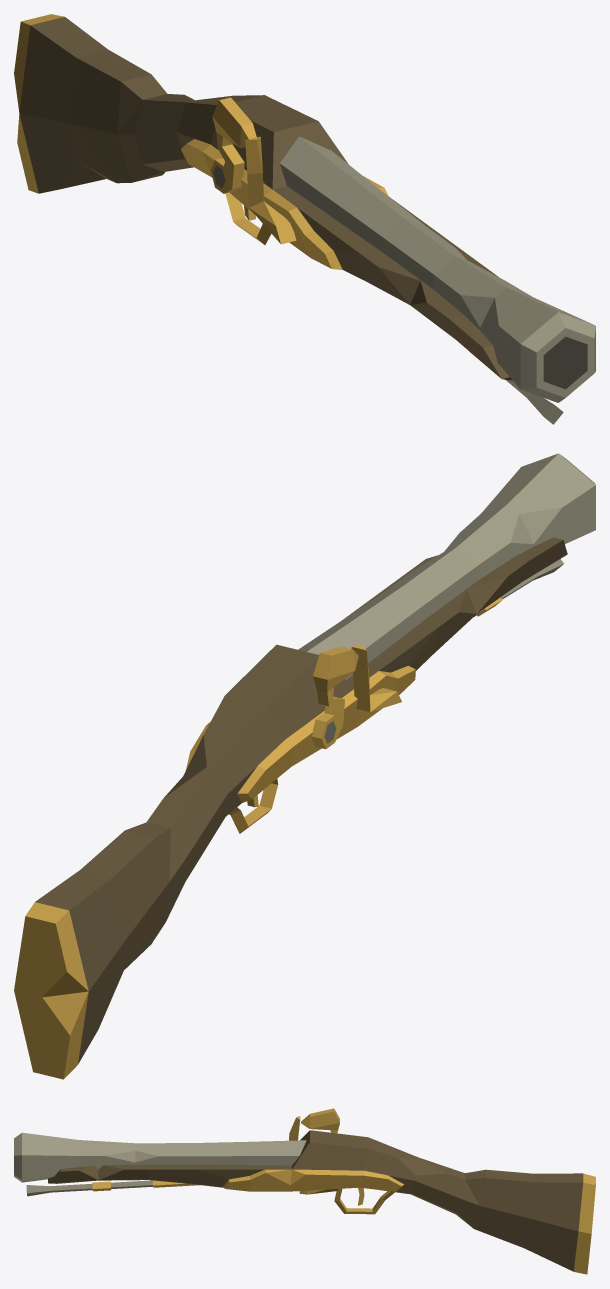
The model's file is Musketon_1.fbx.
3 renders of one model, top to bottom at view 1: azimuth 30°, elevation 25°; view 2: azimuth 150°, elevation 25°; view 3: azimuth 270°, elevation 25°, orthographic. The views are drawn at different scales.
Visible parts, largest first — view 1: Musketon_1; view 2: Musketon_1; view 3: Musketon_1.
Part boxes in pixels (left/top/right/bottom): Musketon_1: left=14, top=14, right=595, bottom=424; Musketon_1: left=14, top=453, right=595, bottom=1079; Musketon_1: left=14, top=1108, right=595, bottom=1274.
Size of the model in its own units: 12.06 by 28.63 by 102.
